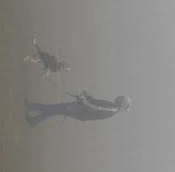person: (23, 89, 130, 128)
